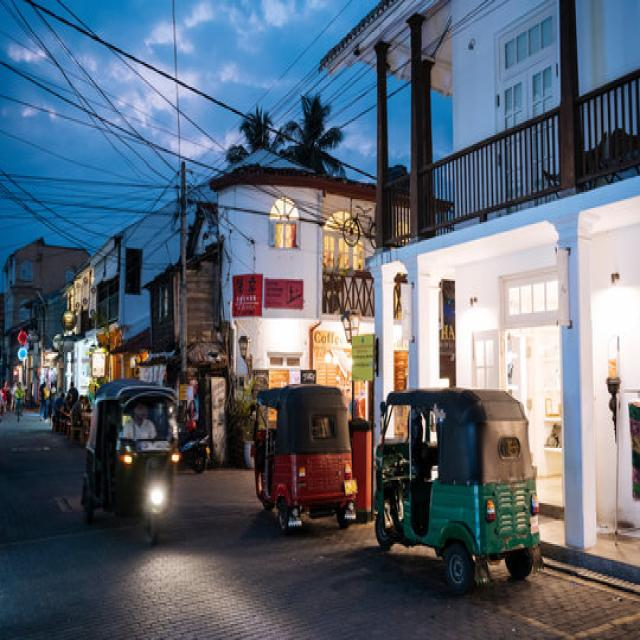motorcycle: (179, 420, 209, 471)
three wheeler: (376, 388, 538, 594), (82, 379, 178, 542), (254, 384, 356, 532)
